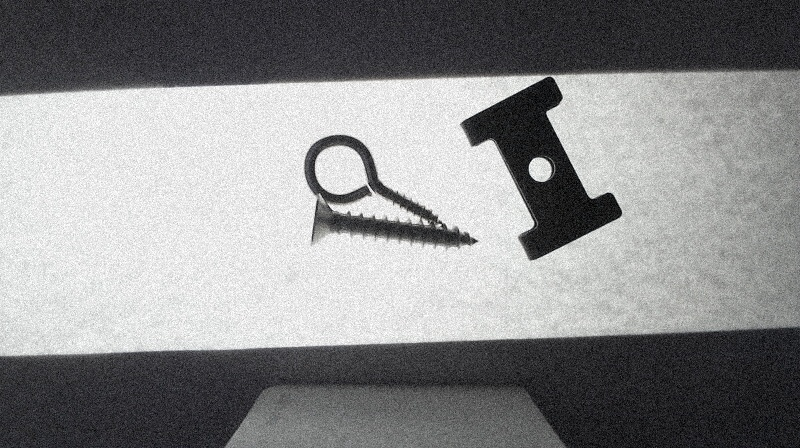O001: (303, 133, 444, 224)
O002: (460, 77, 622, 260)
S001: (310, 193, 479, 248)
